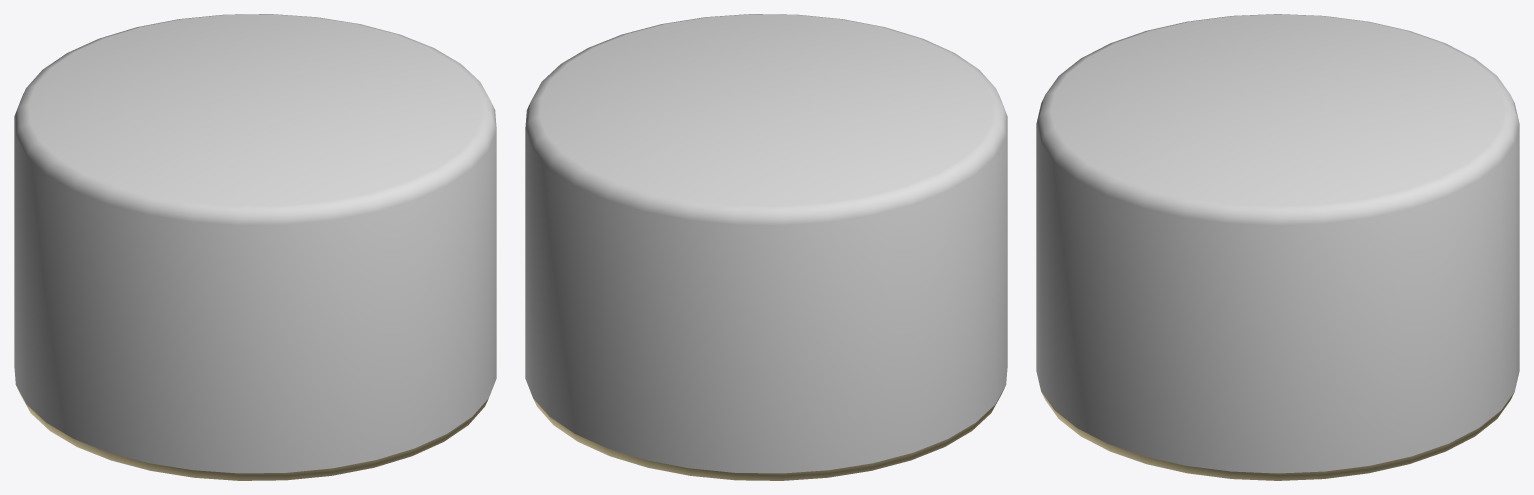
3 renders of one model, left to right at view 1: azimuth 30°, elevation 25°; view 2: azimuth 150°, elevation 25°; view 3: azimuth 270°, elevation 25°, orthographic.
Visible parts, largest first — view 1: Cylinder.001, Cylinder.004; view 2: Cylinder.001, Cylinder.004; view 3: Cylinder.001, Cylinder.004.
Boxes of the visible parts, box(x1,y1,x2,y2) form: Cylinder.001: box(14, 14, 496, 473); Cylinder.004: box(16, 386, 488, 480); Cylinder.001: box(525, 14, 1007, 473); Cylinder.004: box(533, 386, 1005, 480); Cylinder.001: box(1036, 14, 1519, 473); Cylinder.004: box(1041, 392, 1514, 480).
Bounding box in the file's own units: 200 × 125 × 200.
